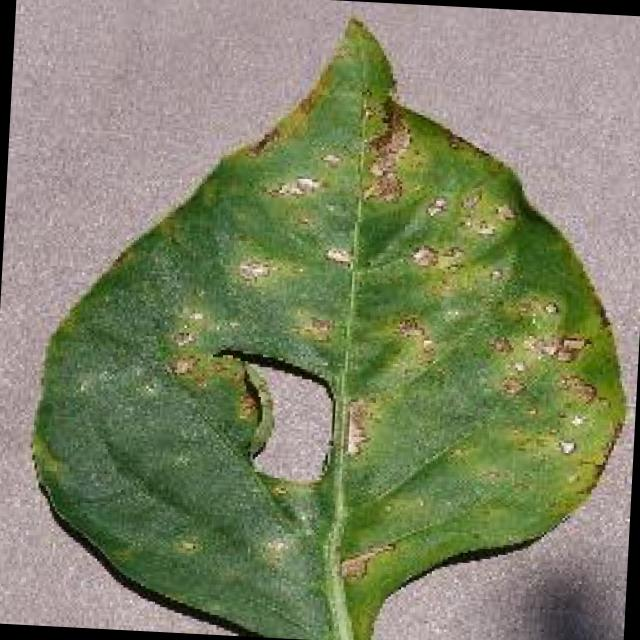Chilli_Bacterial_Spot: (18, 0, 640, 640), (478, 288, 607, 462), (402, 180, 522, 280), (356, 99, 417, 209), (266, 167, 326, 205), (551, 368, 601, 410), (546, 327, 592, 367), (232, 253, 274, 288), (318, 240, 357, 272), (405, 240, 442, 272), (420, 190, 452, 222), (550, 435, 579, 459)
